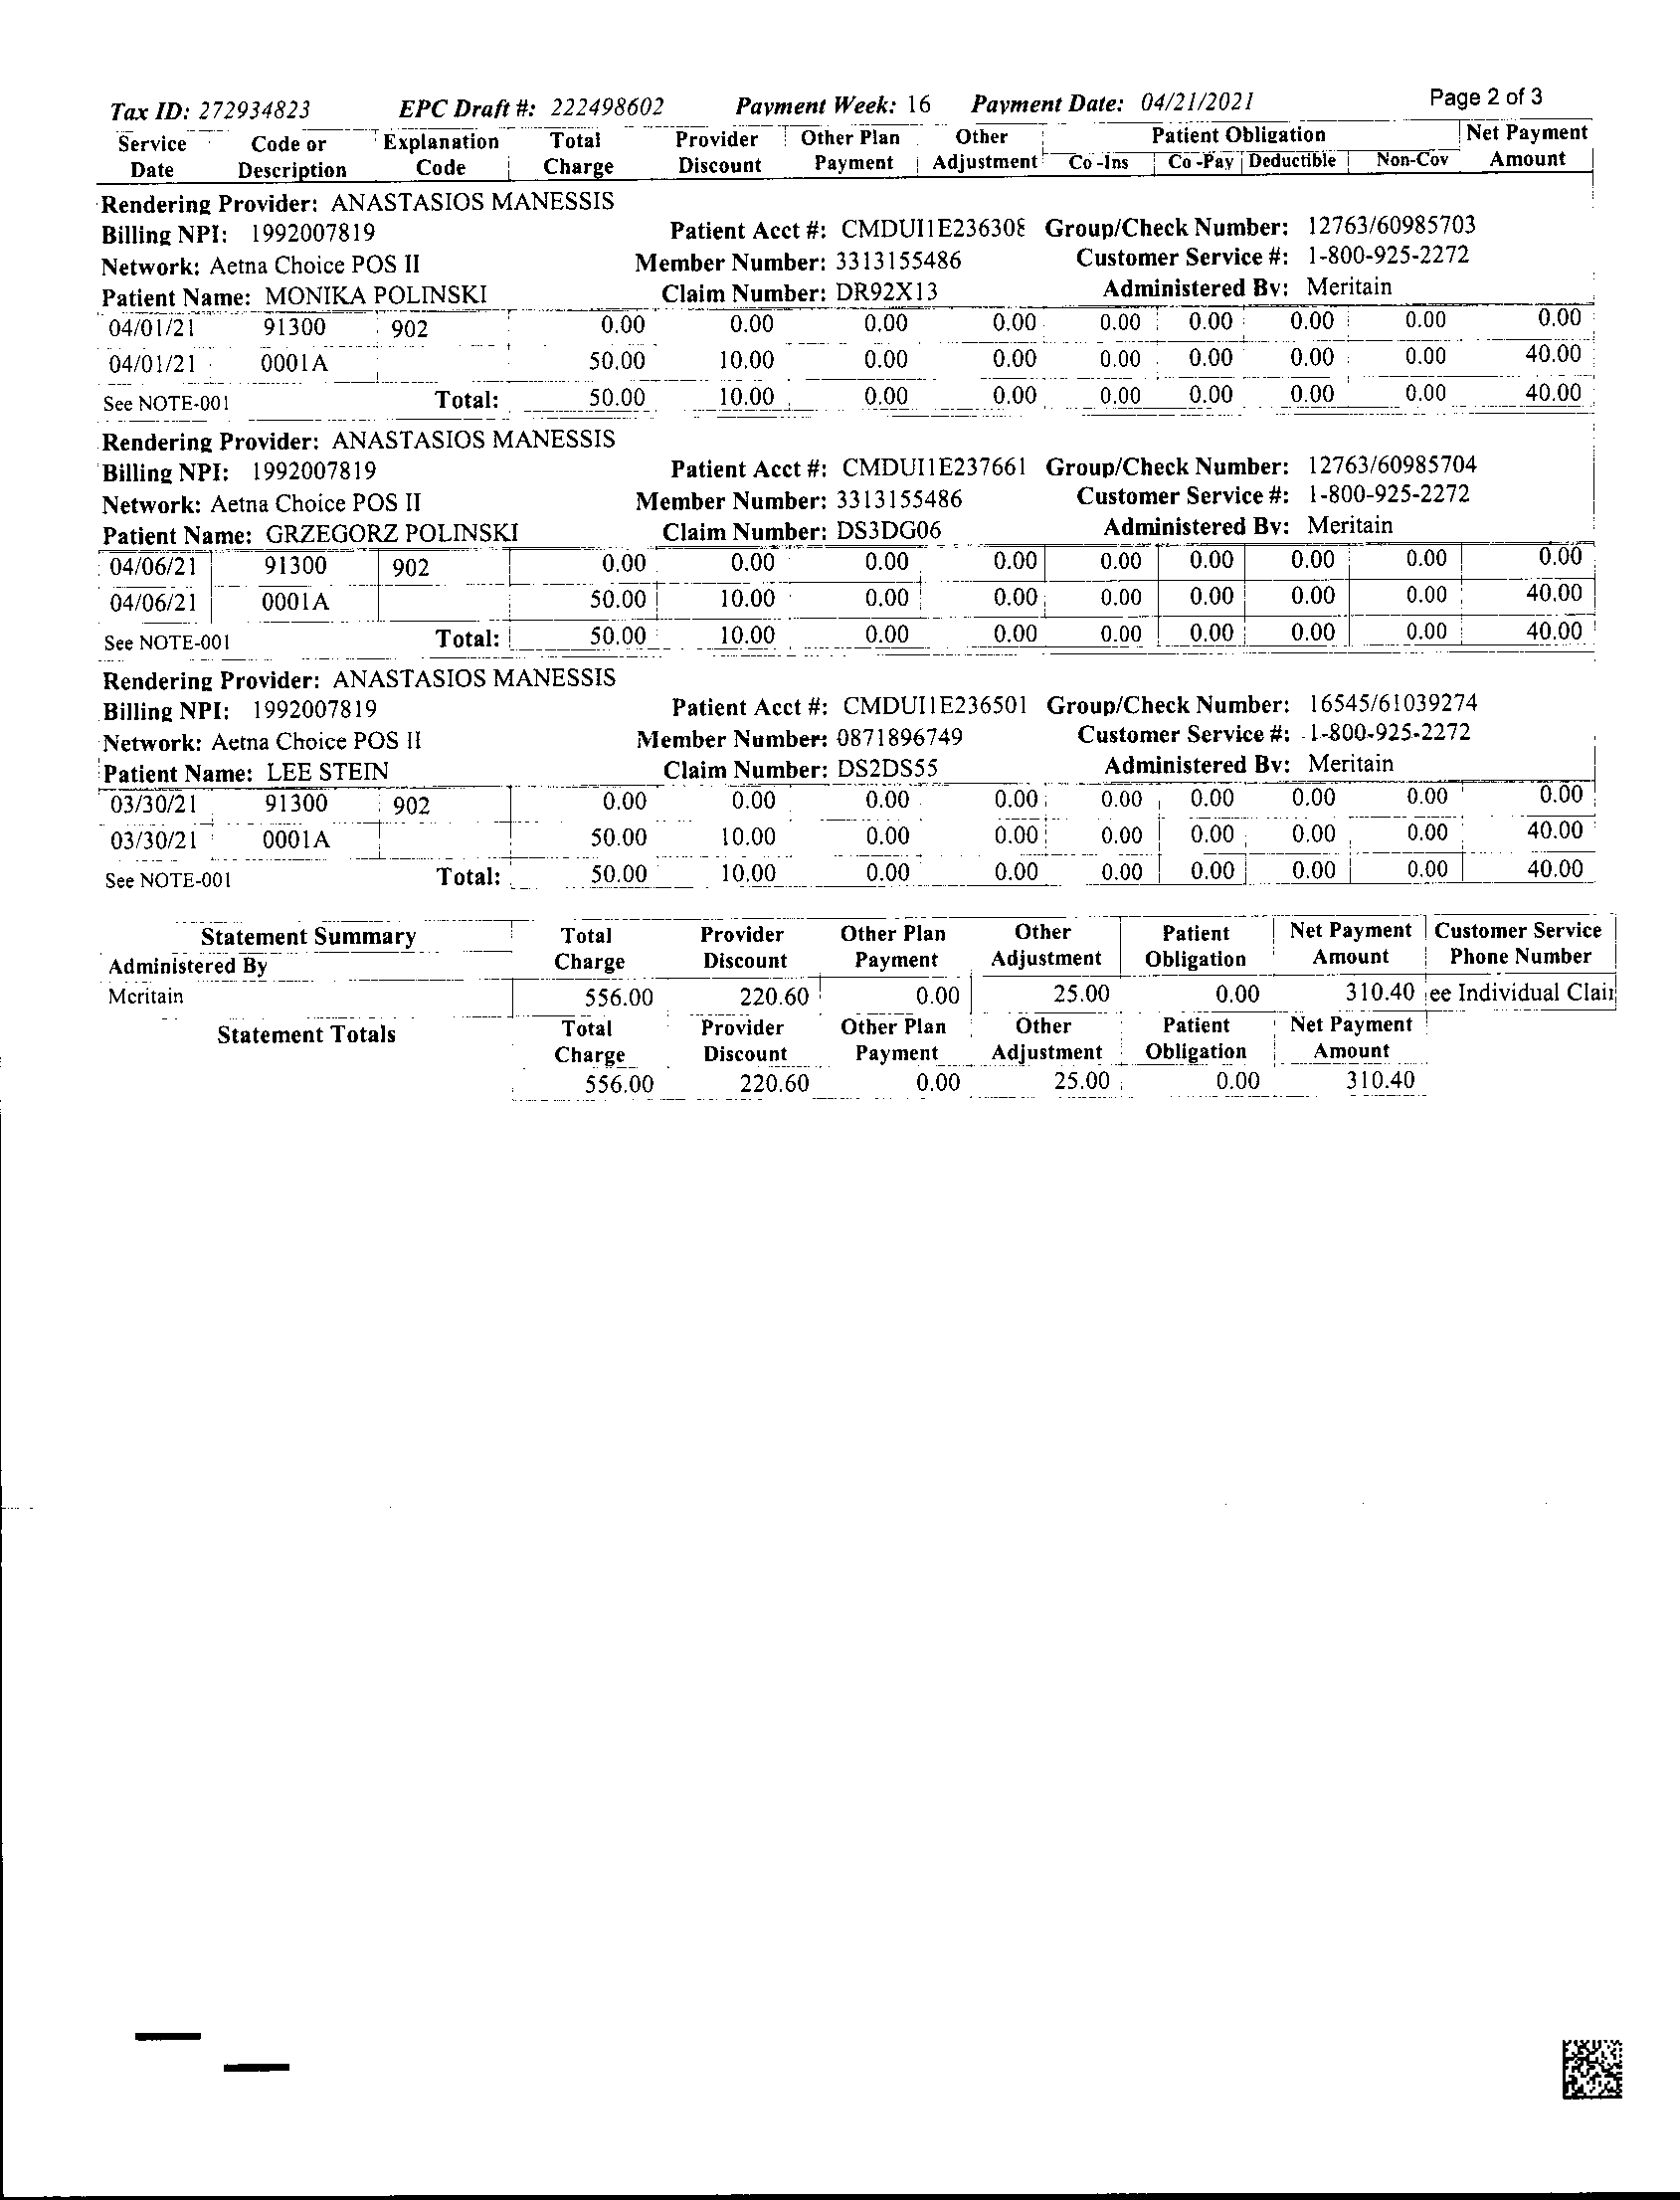data: (95, 660, 1512, 778), (97, 425, 1518, 542), (99, 192, 1491, 307)
table: (88, 90, 1613, 903), (92, 914, 1624, 1122)
